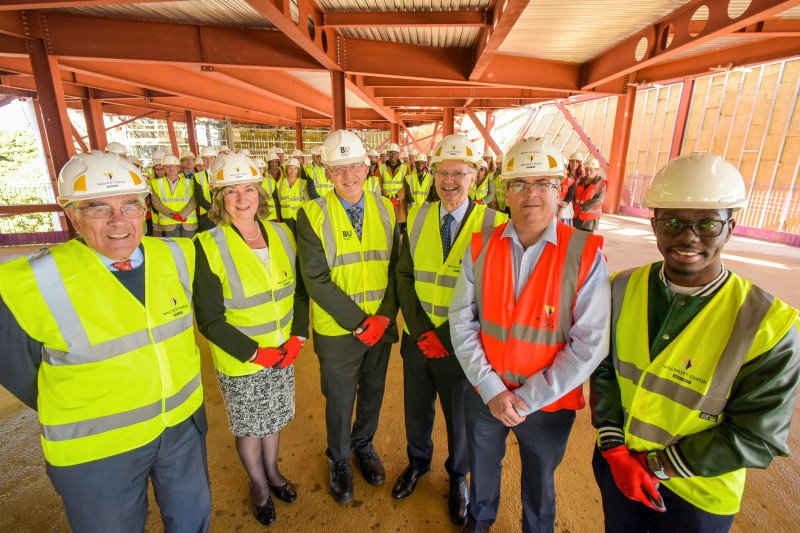Helmet: (633, 148, 760, 284), (50, 144, 155, 262), (498, 135, 571, 234), (203, 149, 266, 233), (424, 129, 479, 215), (319, 128, 371, 203), (163, 152, 187, 183), (584, 156, 606, 173), (283, 155, 303, 172), (385, 140, 403, 155)
Reflective vest: (607, 260, 800, 520), (1, 235, 201, 467), (470, 218, 612, 417), (194, 225, 301, 381), (299, 191, 399, 342), (405, 198, 508, 343), (149, 178, 200, 227), (571, 175, 614, 221), (276, 176, 306, 224), (377, 161, 410, 201), (404, 172, 436, 208)
